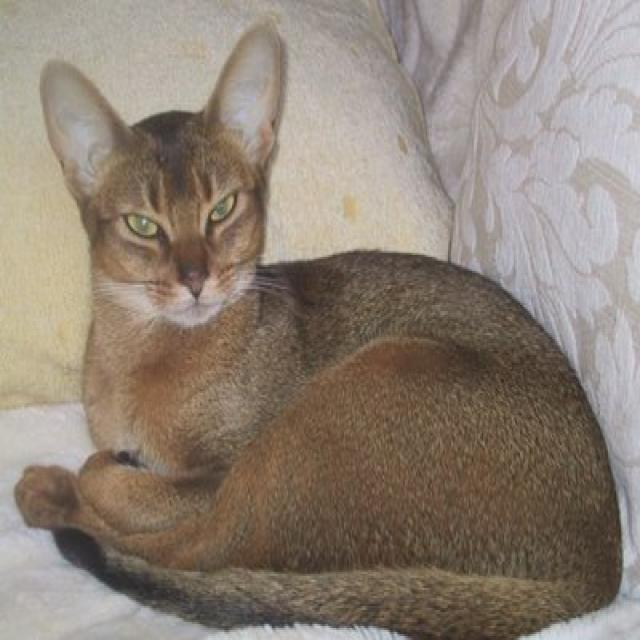Abyssinian: (39, 14, 279, 323)
